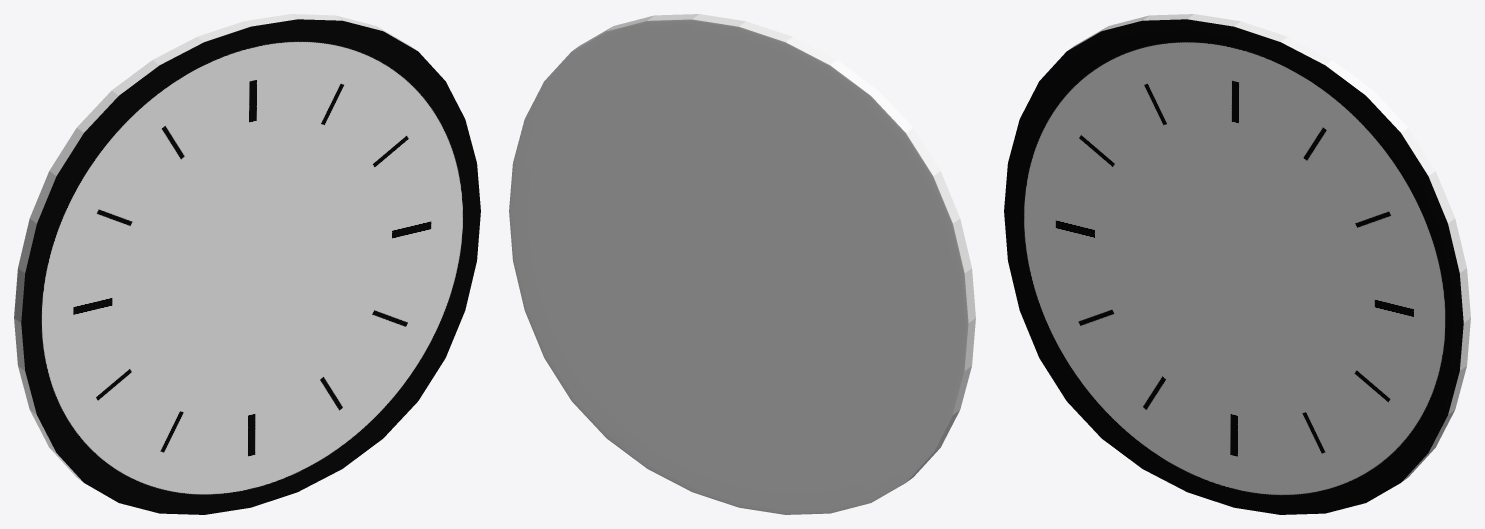
Rendered from clock_face.fbx.
3 views of the same model, side by side, from view 1: azimuth 30°, elevation 25°; view 2: azimuth 150°, elevation 25°; view 3: azimuth 330°, elevation 25° (orthographic).
Parts seen in each view (by area): view 1: Main Dial; view 2: Main Dial; view 3: Main Dial.
Part boxes in pixels (x1,y1,x2,y2): Main Dial: [14, 14, 480, 514]; Main Dial: [509, 14, 975, 514]; Main Dial: [1004, 14, 1470, 514].
Bounding box in the file's own units: 27.18 × 27.18 × 0.7816.
2 materials, 1 textured.
